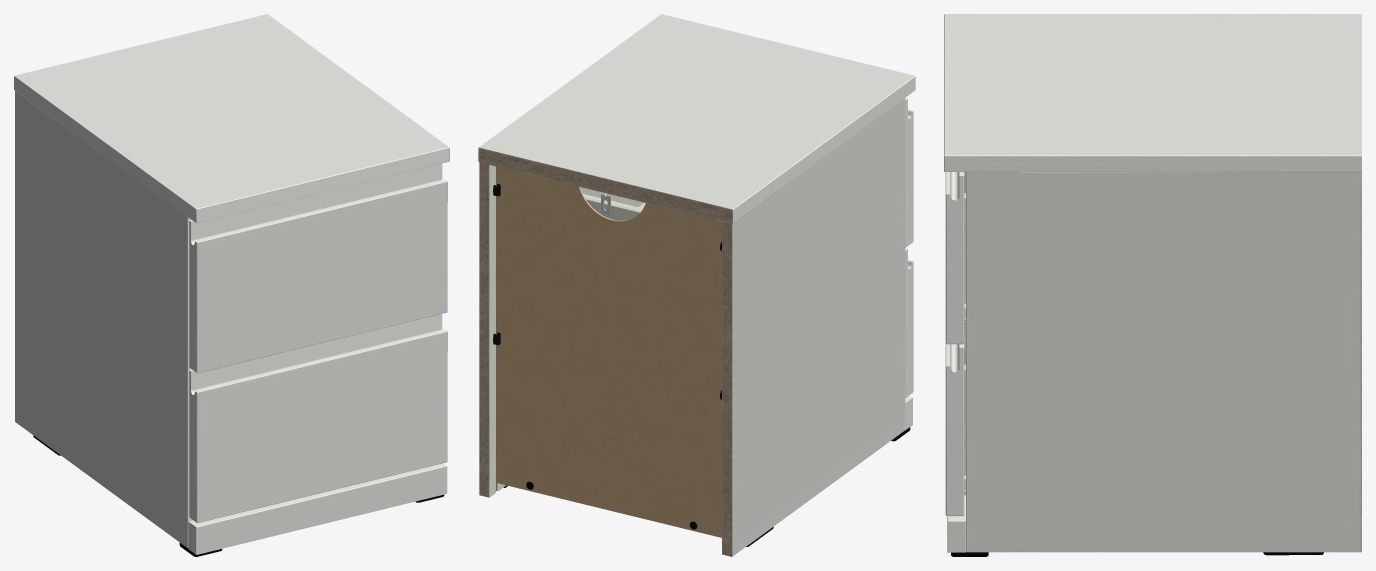
File: storklinta_komoda_2_szuflady_00631414.glb
3 views of the same model, side by side, from view 1: azimuth 30°, elevation 25°; view 2: azimuth 150°, elevation 25°; view 3: azimuth 270°, elevation 25° (orthographic). The views are drawn at different scales.
Visible parts, largest first — view 1: storklinta_komoda_2_szuflady_00631414; view 2: storklinta_komoda_2_szuflady_00631414; view 3: storklinta_komoda_2_szuflady_00631414.
Boxes of the visible parts, box(x1,y1,x2,y2) form: storklinta_komoda_2_szuflady_00631414: box(14, 14, 449, 556); storklinta_komoda_2_szuflady_00631414: box(478, 14, 915, 556); storklinta_komoda_2_szuflady_00631414: box(944, 14, 1361, 556).
Size of the model in its own units: 0.399 by 0.5275 by 0.496.
1 material, 1 textured.
